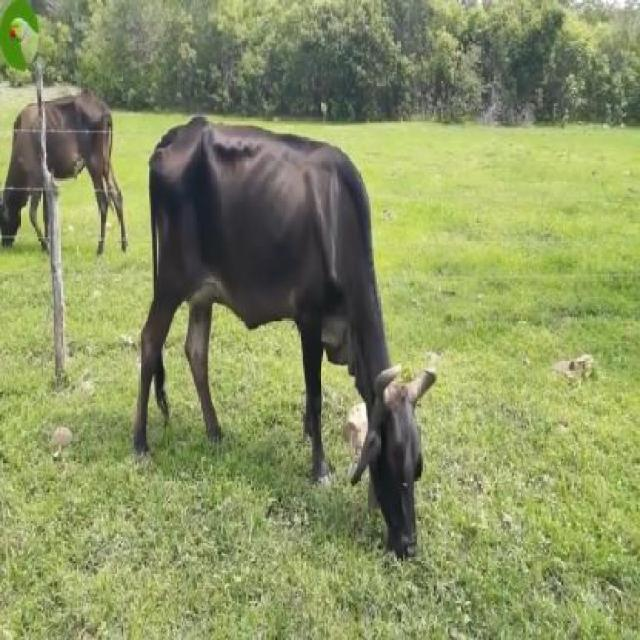Cow: (134, 115, 438, 560), (0, 92, 128, 254)
